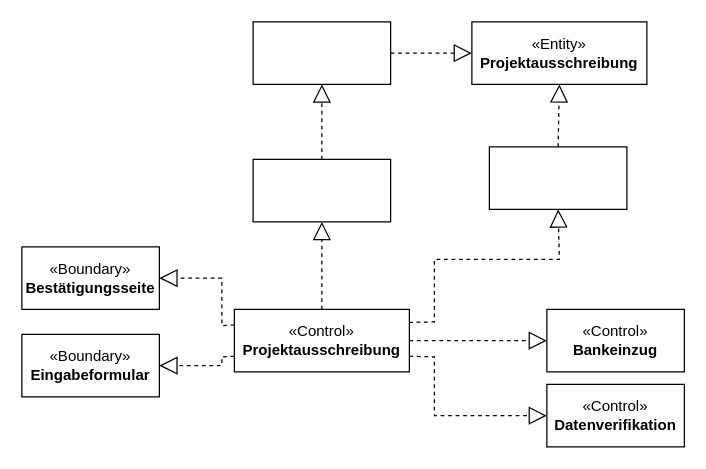
This 706x469 diagram has some shape labels left out. The box of each missing label's shape, as (x1, y1, x2, y2) in pixels:
«Entity» Bankdaten: (252, 158, 391, 222)
«Entity» Kosten: (488, 146, 627, 209)
«Entity» Unternehmer: (252, 21, 391, 84)
